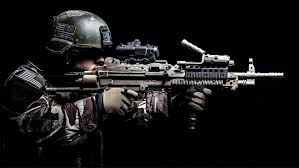gun: (45, 39, 284, 132)
